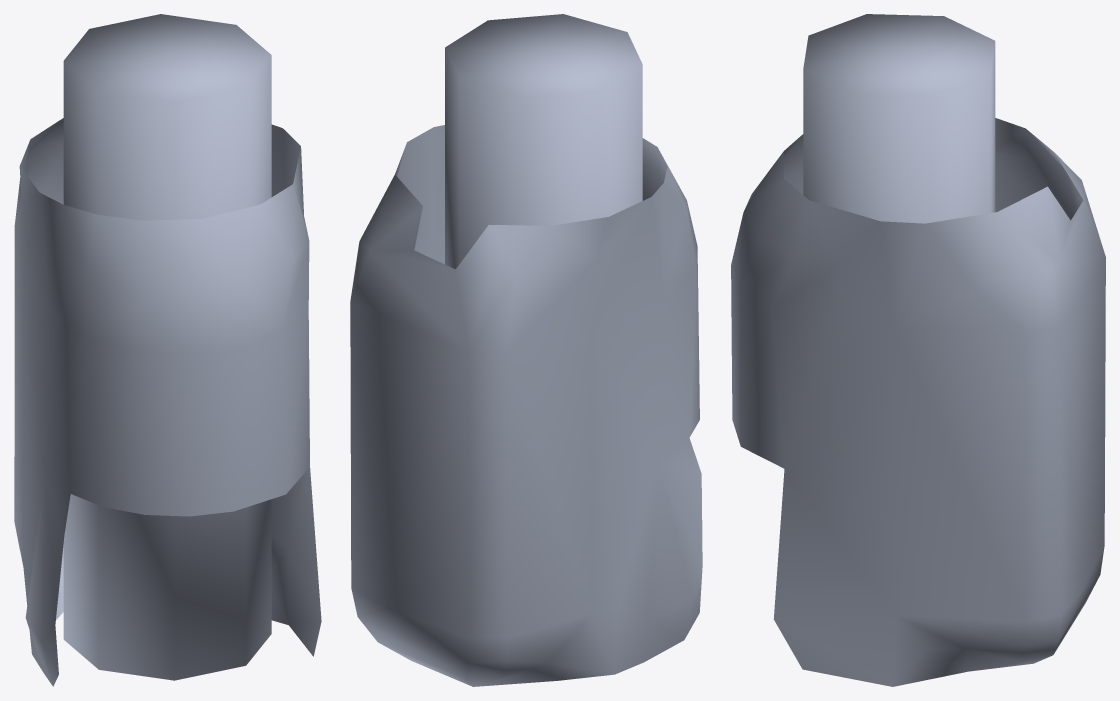
File: r_arm.dae
3 views of the same model, side by side, from view 1: azimuth 30°, elevation 25°; view 2: azimuth 150°, elevation 25°; view 3: azimuth 270°, elevation 25° (orthographic). The views are drawn at different scales.
Visible parts, largest first — view 1: r_arm_mesh; view 2: r_arm_mesh; view 3: r_arm_mesh.
Part boxes in pixels (box(x1,y1,x2,y2)): r_arm_mesh: box(14, 14, 321, 686); r_arm_mesh: box(350, 14, 702, 686); r_arm_mesh: box(731, 14, 1105, 686).
Size of the model in its own units: 0.0768 by 0.0943 by 0.16.
